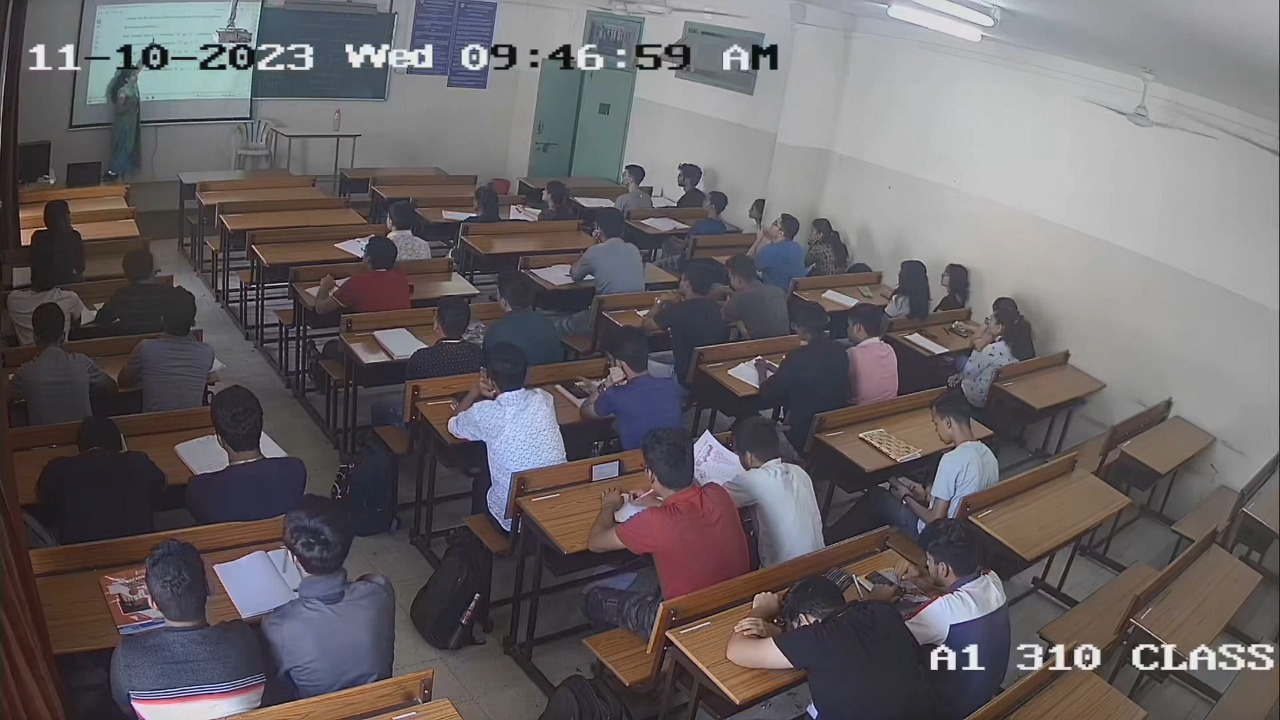cell-phones: (861, 567, 905, 602), (586, 453, 624, 483), (556, 374, 590, 402), (888, 470, 917, 494), (754, 356, 778, 375)
person: (584, 422, 752, 605), (908, 515, 1018, 695), (875, 394, 1000, 521), (577, 322, 686, 445), (752, 301, 850, 413)
